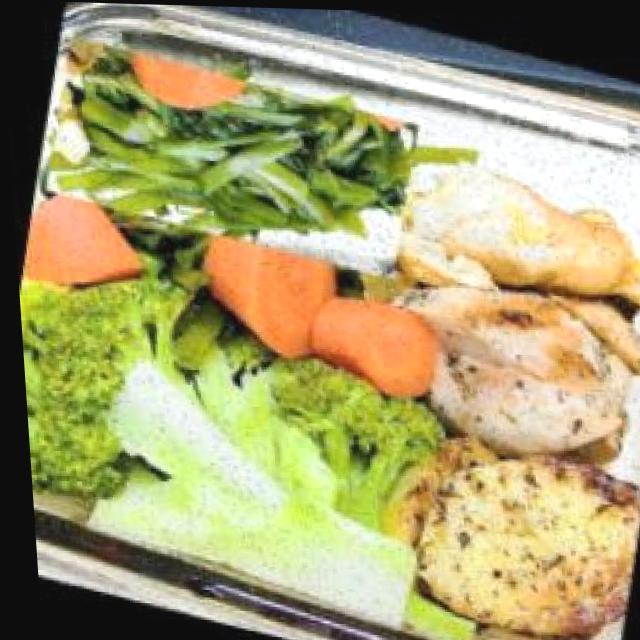water_spinach: (32, 33, 427, 280)
